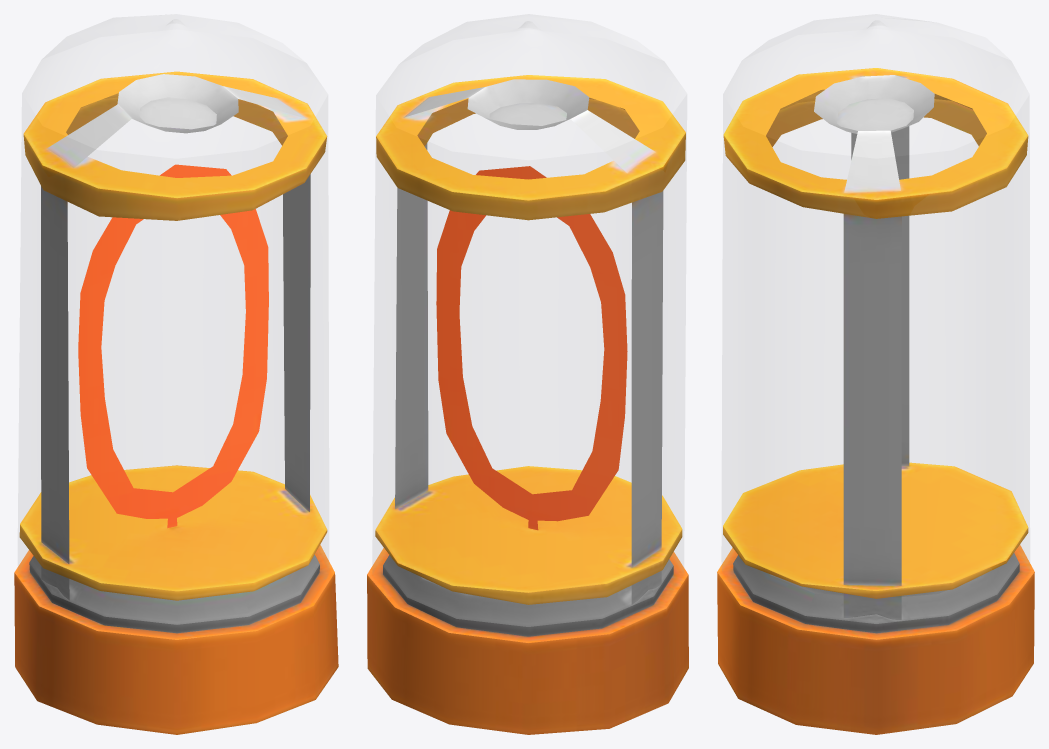
File: obj_num00_base.gltf
The picture shows the model from 3 angles, left to right: view 1: azimuth 30°, elevation 25°; view 2: azimuth 150°, elevation 25°; view 3: azimuth 270°, elevation 25°; orthographic projection.
Visible parts, largest first — view 1: obj_num00_base, obj_num00_glass; view 2: obj_num00_base, obj_num00_glass; view 3: obj_num00_base, obj_num00_glass.
Boxes of the visible parts, <box> form: obj_num00_base: <box>14,71,338,734</box>; obj_num00_glass: <box>18,14,328,570</box>; obj_num00_base: <box>367,75,688,734</box>; obj_num00_glass: <box>373,14,686,572</box>; obj_num00_base: <box>717,68,1034,734</box>; obj_num00_glass: <box>722,14,1029,570</box>.
Size of what is drawn, in the model's own units: 0.3243 by 0.7152 by 0.3192.
Materials: 2 (1 with a texture image).
